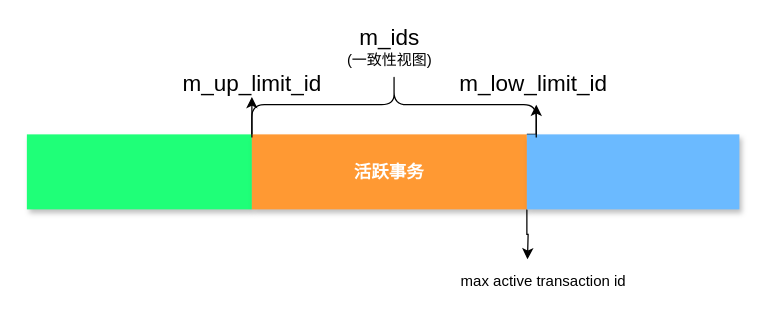
This 768x315 diagram has some shape labels left out. Each missing label, with the centre of its shape:
"已提交事务" goes at point 140,173.
"未开始事务" goes at point 633,173.
